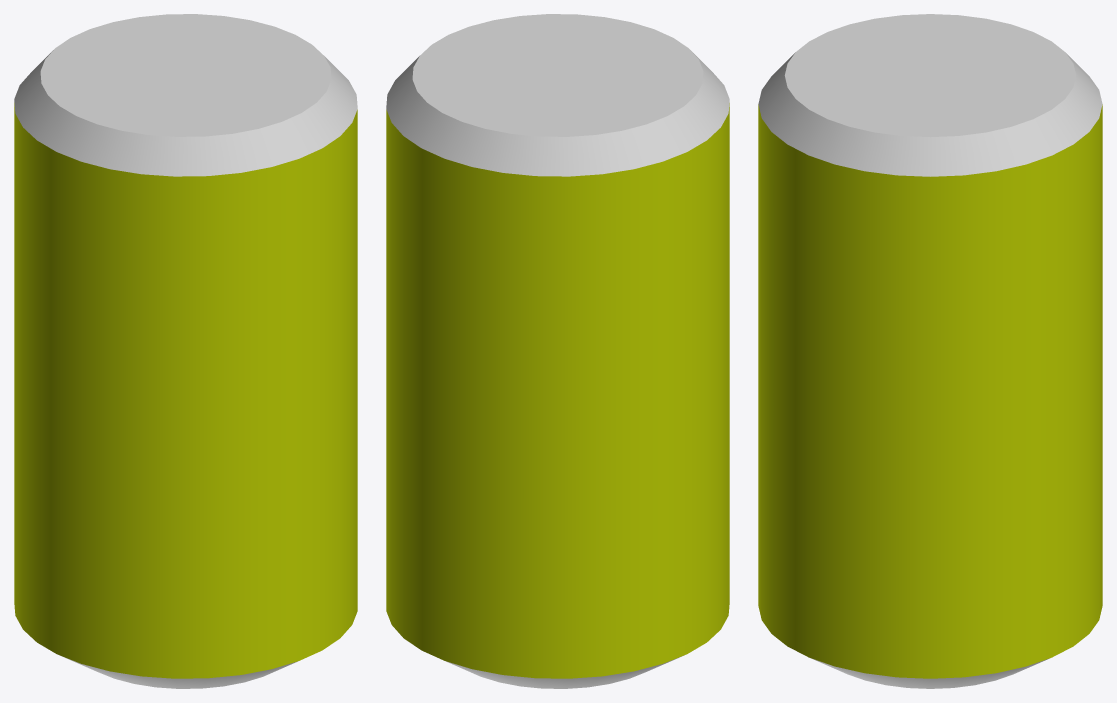
File: Can.fbx
The picture shows the model from 3 angles, left to right: view 1: azimuth 30°, elevation 25°; view 2: azimuth 150°, elevation 25°; view 3: azimuth 270°, elevation 25°; orthographic projection.
Parts seen in each view (by area): view 1: Cylinder; view 2: Cylinder; view 3: Cylinder.
Boxes of the visible parts, bbox=[...] form: Cylinder: bbox=[14, 14, 357, 688]; Cylinder: bbox=[386, 14, 729, 688]; Cylinder: bbox=[758, 14, 1102, 688].
Bounding box in the file's own units: 100 × 181 × 100.
